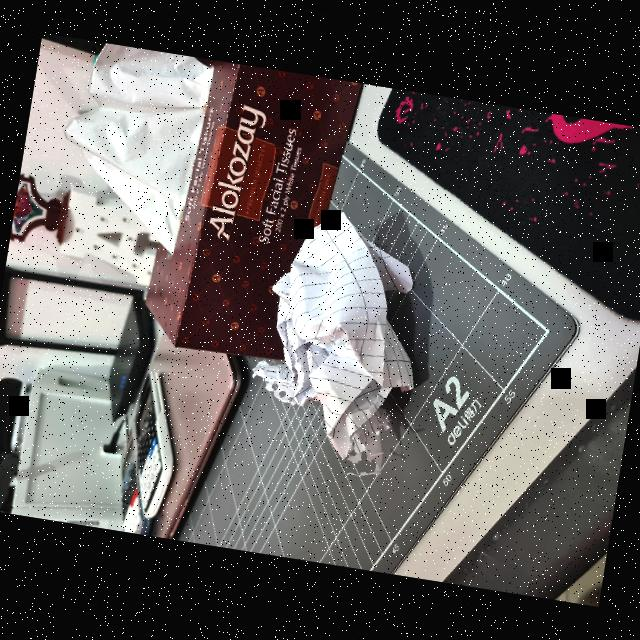scrap_paper: (243, 206, 441, 474)
